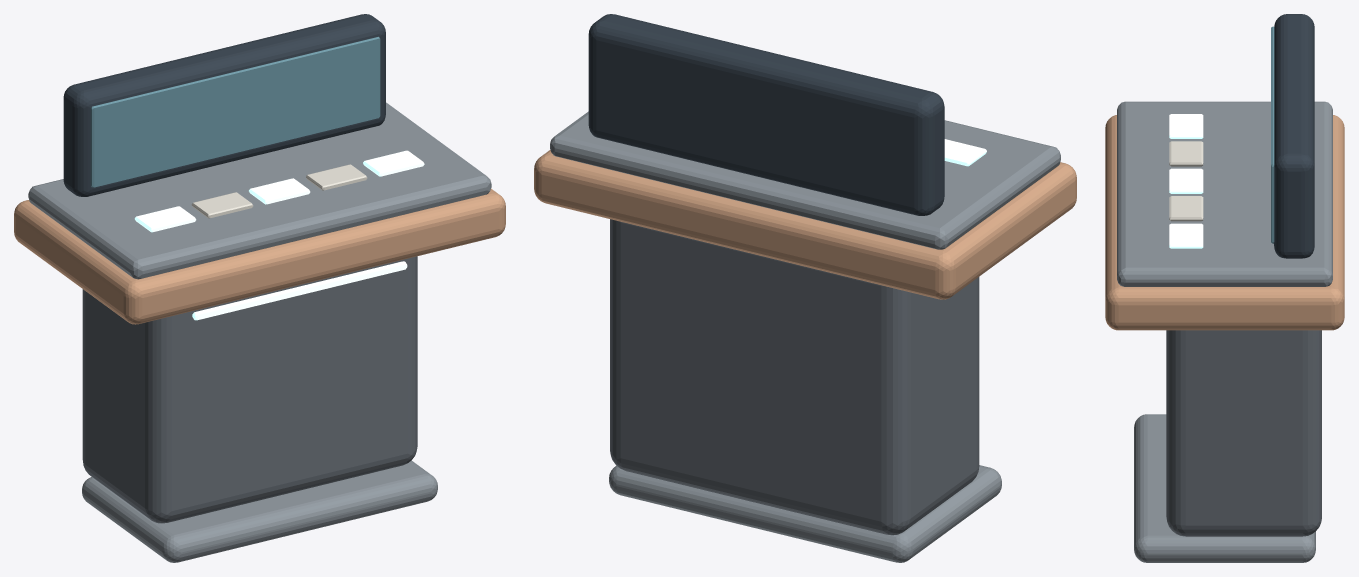
The model's file is holodeck_control_desk.glb.
The picture shows the model from 3 angles, left to right: view 1: azimuth 30°, elevation 25°; view 2: azimuth 150°, elevation 25°; view 3: azimuth 270°, elevation 25°; orthographic projection. The views are drawn at different scales.
Parts seen in each view (by area): view 1: shell_002, shell_004, shell_006, shell_003, shell_001, shell_005, shell_012, control_008, control_007, control_009, control_010, control_011; view 2: shell_002, shell_005, shell_003, shell_004, shell_001, control_007; view 3: shell_002, shell_004, shell_003, shell_005, shell_001, control_008, control_009, control_010, control_011, control_007, shell_006.
Boxes of the visible parts, bbox=[...] form: shell_002: bbox=[82, 256, 417, 523]; shell_004: bbox=[28, 102, 491, 279]; shell_006: bbox=[90, 36, 380, 187]; shell_003: bbox=[14, 188, 505, 324]; shell_001: bbox=[82, 460, 437, 562]; shell_005: bbox=[63, 14, 385, 196]; shell_012: bbox=[192, 261, 407, 320]; control_008: bbox=[191, 192, 253, 218]; control_007: bbox=[134, 206, 196, 232]; control_009: bbox=[249, 178, 310, 204]; control_010: bbox=[306, 164, 367, 190]; control_011: bbox=[363, 150, 424, 176]; shell_002: bbox=[610, 219, 979, 535]; shell_005: bbox=[588, 14, 944, 215]; shell_003: bbox=[534, 150, 1076, 299]; shell_004: bbox=[550, 111, 1060, 249]; shell_001: bbox=[609, 465, 1001, 562]; control_007: bbox=[944, 139, 986, 166]; shell_002: bbox=[1166, 330, 1321, 536]; shell_004: bbox=[1117, 101, 1332, 286]; shell_003: bbox=[1105, 115, 1344, 330]; shell_005: bbox=[1274, 14, 1314, 258]; shell_001: bbox=[1134, 414, 1315, 562]; control_008: bbox=[1169, 141, 1203, 166]; control_009: bbox=[1169, 168, 1203, 193]; control_010: bbox=[1169, 196, 1203, 221]; control_011: bbox=[1169, 223, 1203, 248]; control_007: bbox=[1169, 114, 1203, 138]; shell_006: bbox=[1271, 26, 1274, 243].
Size of the model in its own units: 1.12 by 1.19 by 0.62.
